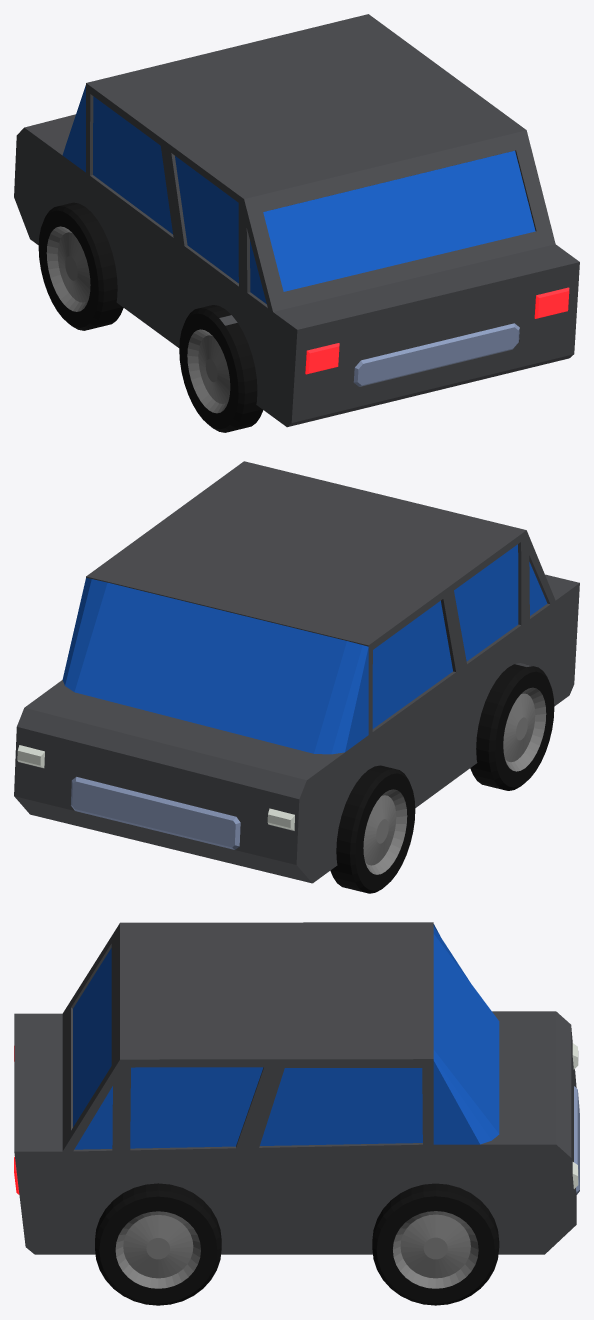
The model's file is car.fbx.
3 renders of one model, top to bottom at view 1: azimuth 30°, elevation 25°; view 2: azimuth 150°, elevation 25°; view 3: azimuth 270°, elevation 25°, orthographic.
Parts seen in each view (by area): view 1: Cube; view 2: Cube; view 3: Cube.
Boxes of the visible parts, x1,y1,x2,y2 form: Cube: (14, 14, 579, 432); Cube: (14, 461, 579, 893); Cube: (14, 922, 579, 1305).
Size of the model in its own units: 225 by 163 by 350.
